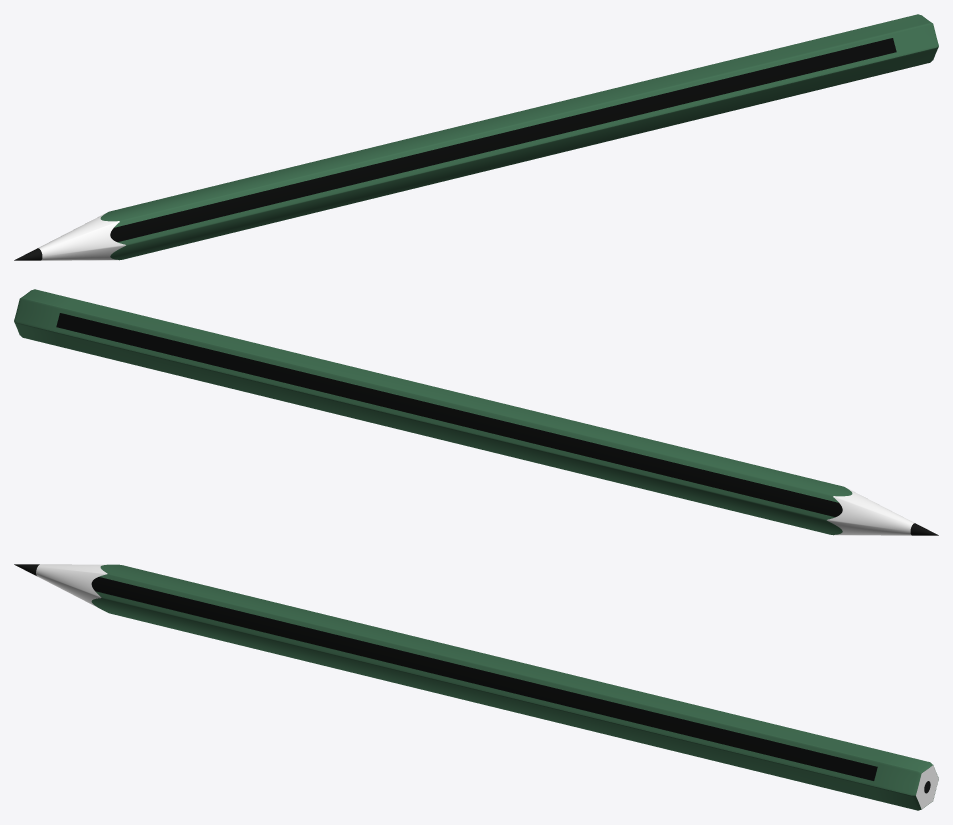
3 views of the same model, one above another, from view 1: azimuth 30°, elevation 25°; view 2: azimuth 150°, elevation 25°; view 3: azimuth 330°, elevation 25° (orthographic).
Parts seen in each view (by area): view 1: part_001_Sage_lacquer_jacket, part_004_Black_lacquer_panel_2, part_000_Wooden_barrel; view 2: part_001_Sage_lacquer_jacket, part_005_Black_lacquer_panel_1, part_000_Wooden_barrel; view 3: part_001_Sage_lacquer_jacket, part_004_Black_lacquer_panel_2, part_000_Wooden_barrel.
Part boxes in pixels (x1=…): part_001_Sage_lacquer_jacket: x1=100, y1=14, x2=938, y2=260; part_004_Black_lacquer_panel_2: x1=110, y1=38, x2=896, y2=242; part_000_Wooden_barrel: x1=38, y1=213, x2=125, y2=260; part_001_Sage_lacquer_jacket: x1=14, y1=289, x2=852, y2=535; part_005_Black_lacquer_panel_1: x1=56, y1=313, x2=842, y2=517; part_000_Wooden_barrel: x1=827, y1=488, x2=914, y2=535; part_001_Sage_lacquer_jacket: x1=91, y1=564, x2=938, y2=810; part_004_Black_lacquer_panel_2: x1=91, y1=577, x2=877, y2=780; part_000_Wooden_barrel: x1=36, y1=564, x2=938, y2=809.
Size of the model in its own units: 0.174 by 0.0072 by 0.00825.
